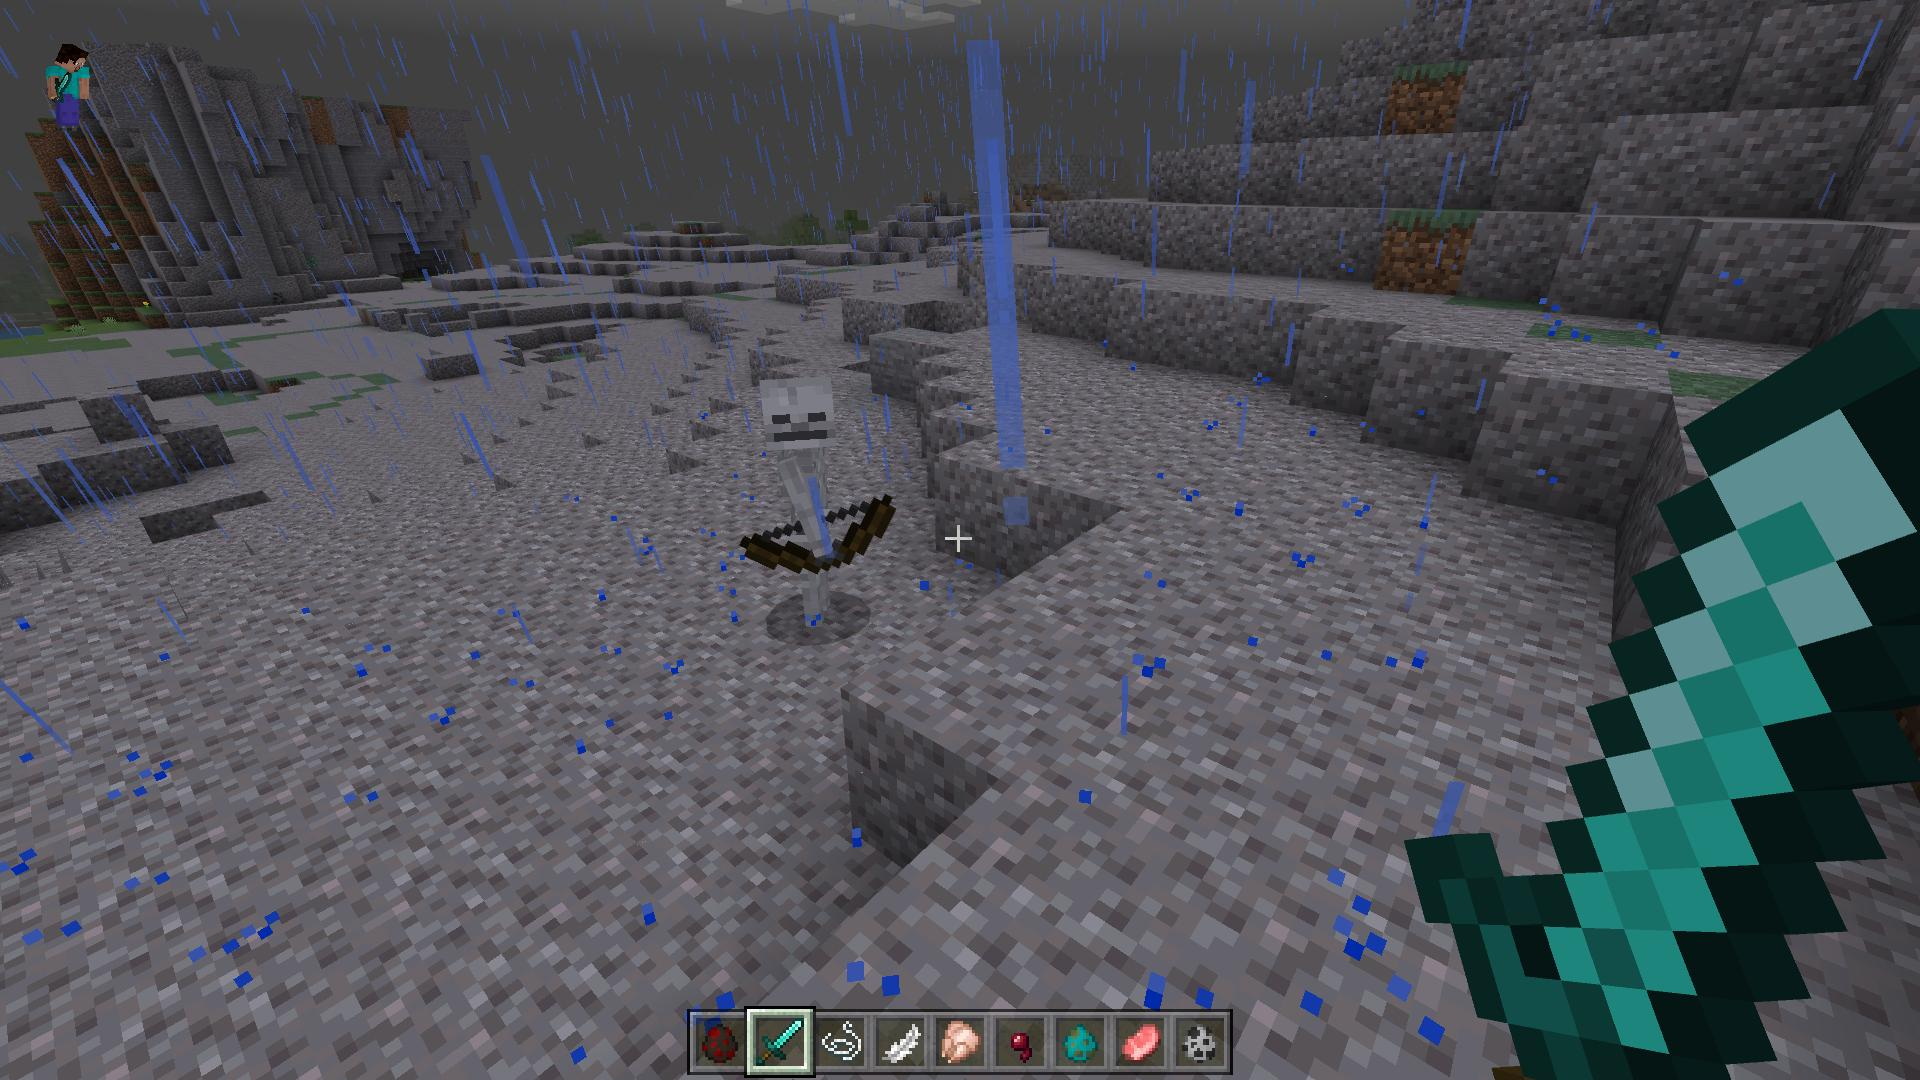skeleton: (741, 371, 893, 633)
